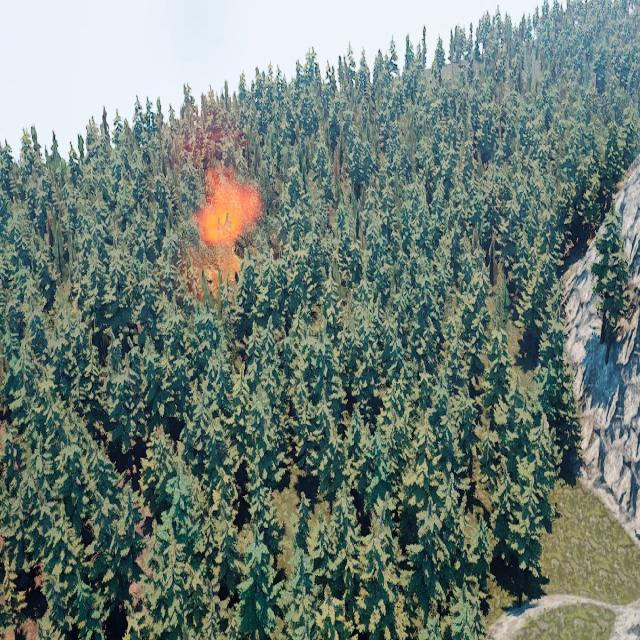smoke: (177, 92, 258, 281)
